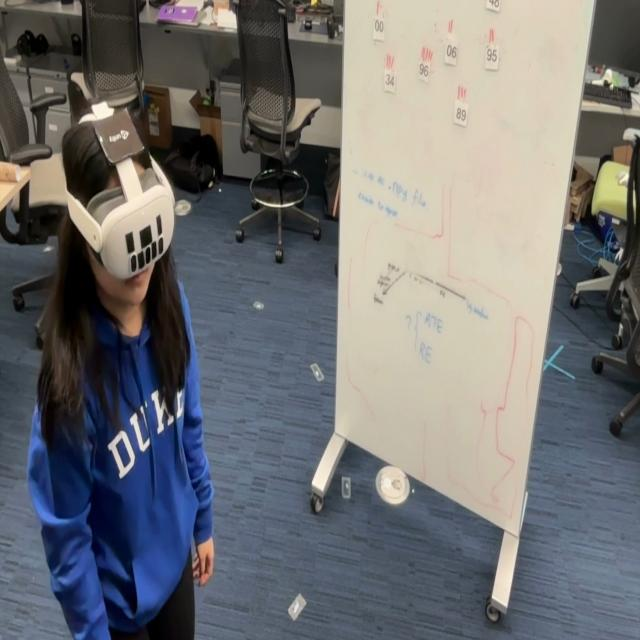Headset: (61, 111, 176, 281)
UnityLogo: (91, 104, 145, 167)
